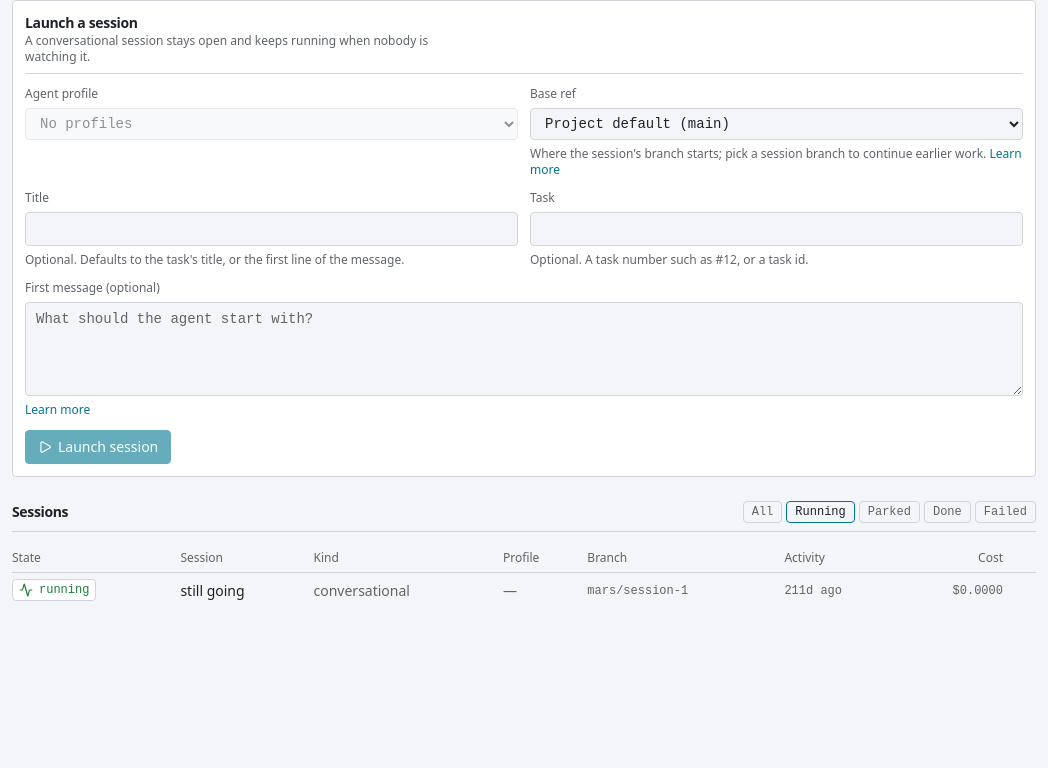
Scenario: SessionsTab › filters the one list it has, never showing another state's rows
Expected: the link "still going" is shown, [180, 580, 245, 600]
Expected: the text "gave up" is not shown
Click the button "All" at point(762, 512), box [743, 501, 782, 523]
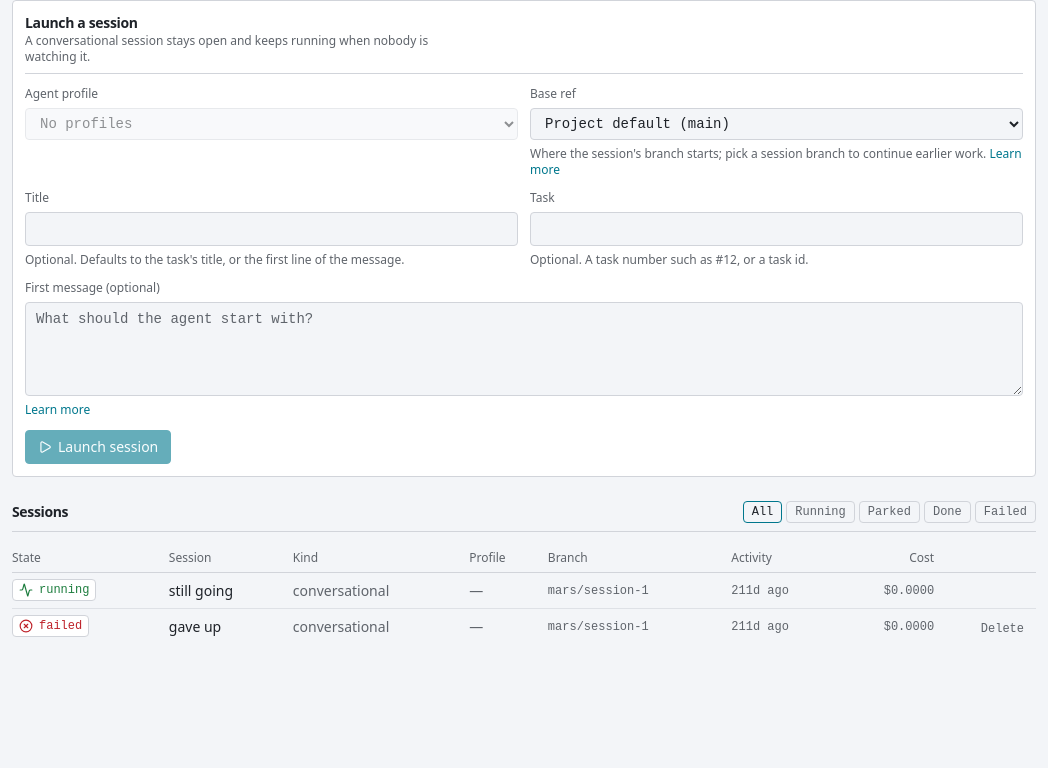
Expected: the link "still going" is shown, [169, 580, 233, 600]
Now the link "gave up" is shown, box [169, 616, 221, 636]
Click the button "Failed" at point(1005, 512), box [975, 501, 1036, 523]
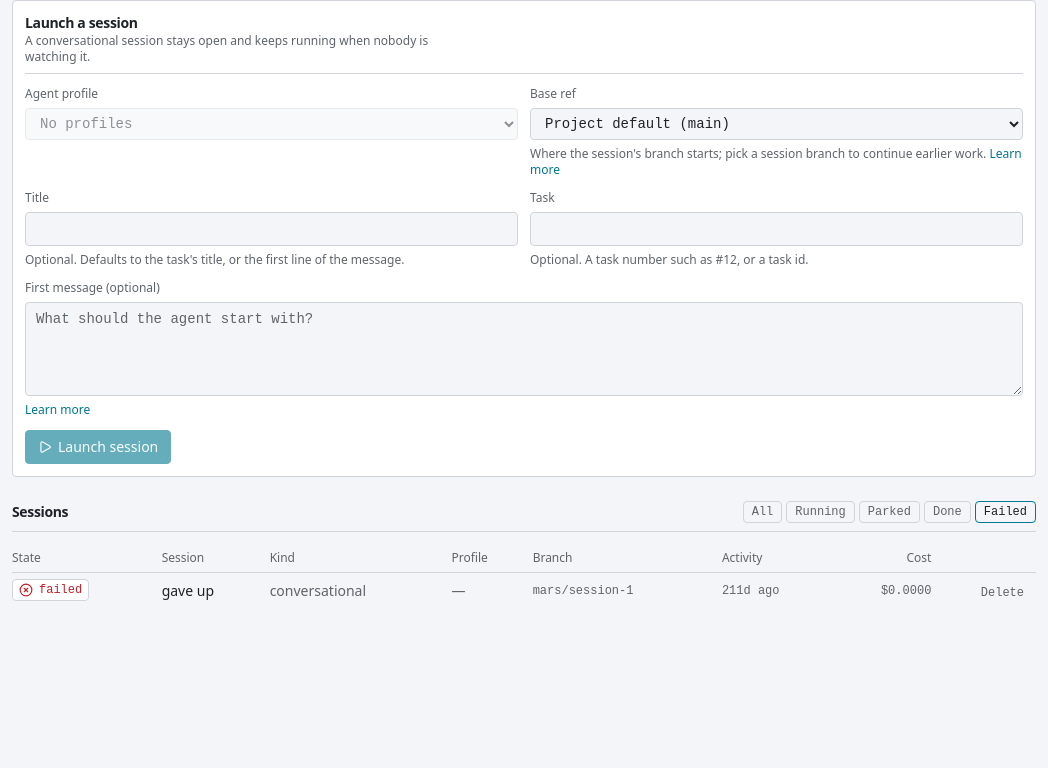
Now the link "gave up" is shown, box [162, 580, 214, 600]
Now the link "still going" is gone
